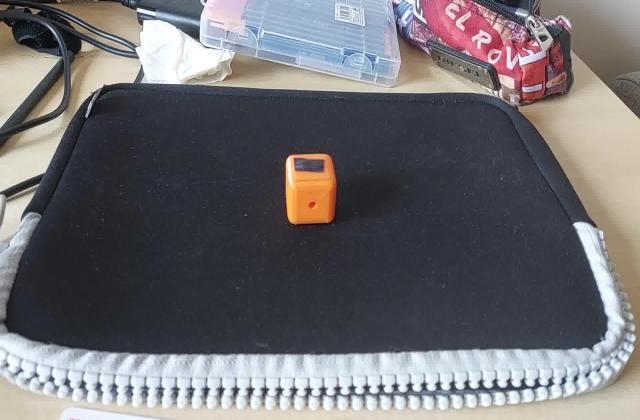black: (292, 155, 329, 176)
cube: (282, 152, 338, 227)
